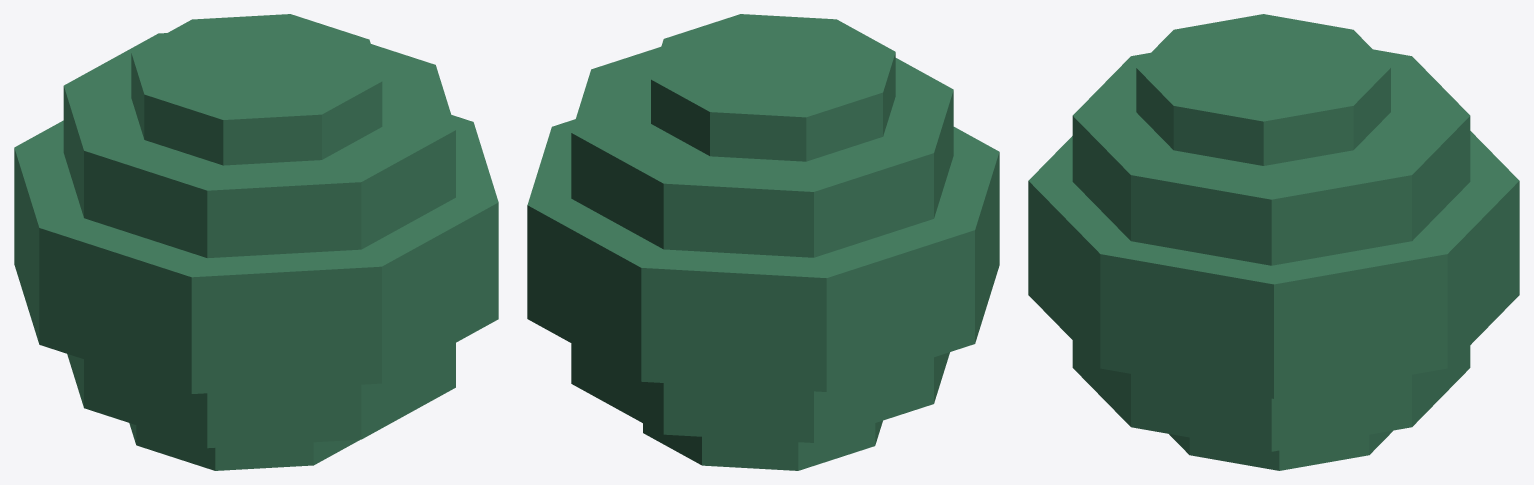
Rendered from planet_round_green.glb.
The picture shows the model from 3 angles, left to right: view 1: azimuth 30°, elevation 25°; view 2: azimuth 150°, elevation 25°; view 3: azimuth 270°, elevation 25°; orthographic projection. The views are drawn at different scales.
Parts seen in each view (by area): view 1: cylinderVertex (×5); view 2: cylinderVertex (×5); view 3: cylinderVertex (×5).
Boxes of the visible parts, <box> form: cylinderVertex (×5): <box>14,14,498,470</box>; cylinderVertex (×5): <box>527,14,999,470</box>; cylinderVertex (×5): <box>1028,14,1519,470</box>.
Size of the model in its own units: 1 by 0.7852 by 1.
